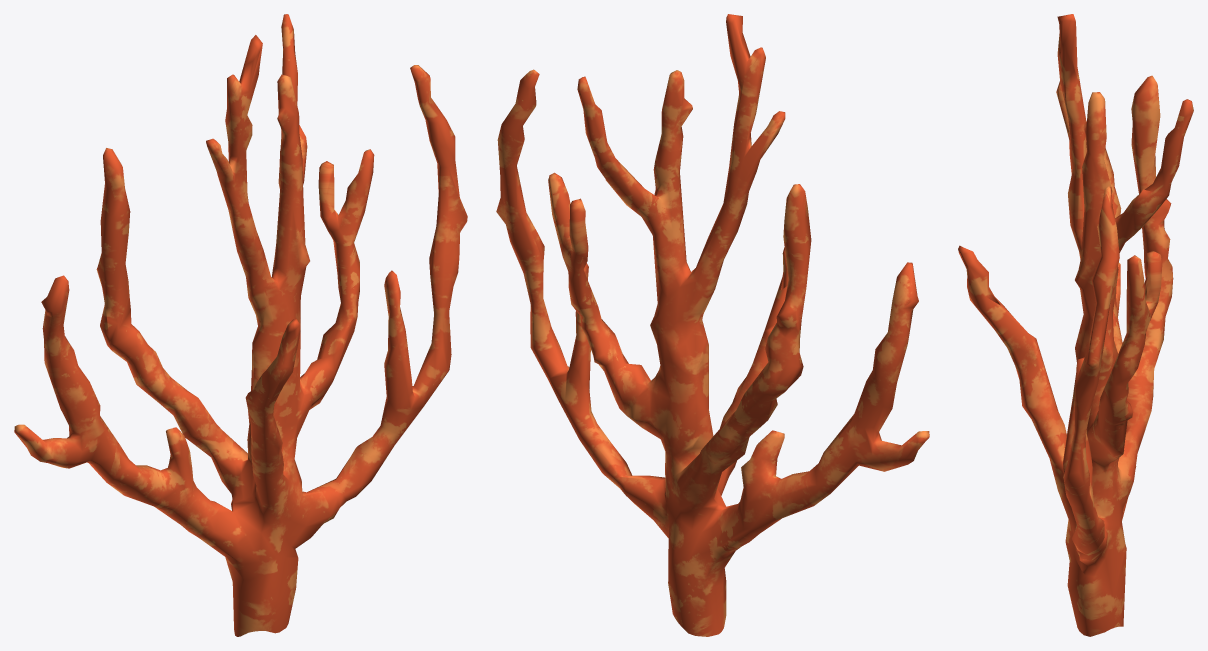
File: orangeDSponge00a.fbx
The picture shows the model from 3 angles, left to right: view 1: azimuth 30°, elevation 25°; view 2: azimuth 150°, elevation 25°; view 3: azimuth 270°, elevation 25°; orthographic projection.
Parts seen in each view (by area): view 1: orangeDevilsSponge00a_final; view 2: orangeDevilsSponge00a_final; view 3: orangeDevilsSponge00a_final.
Boxes of the visible parts, left/top/right/bottom form: orangeDevilsSponge00a_final: left=14, top=14, right=467, bottom=636; orangeDevilsSponge00a_final: left=496, top=14, right=929, bottom=636; orangeDevilsSponge00a_final: left=958, top=14, right=1193, bottom=636.
Size of the model in its own units: 0.7509 by 0.992 by 0.3484.
Materials: 1 (1 with a texture image).
